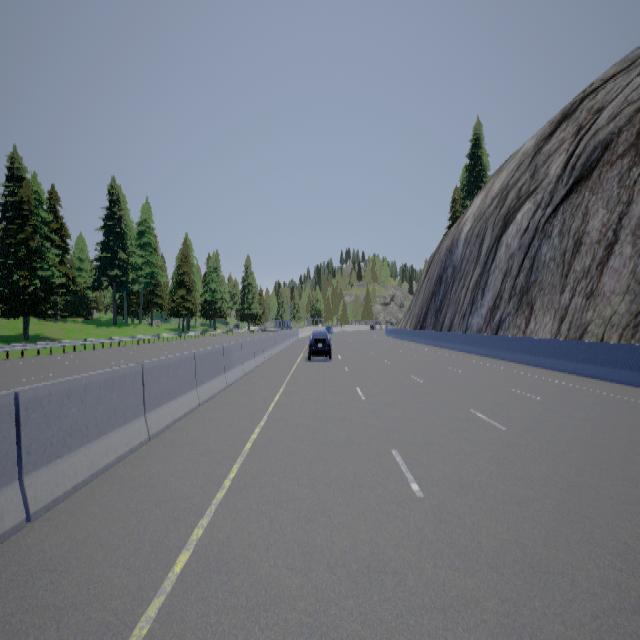vehicle: (307, 325, 332, 359)
